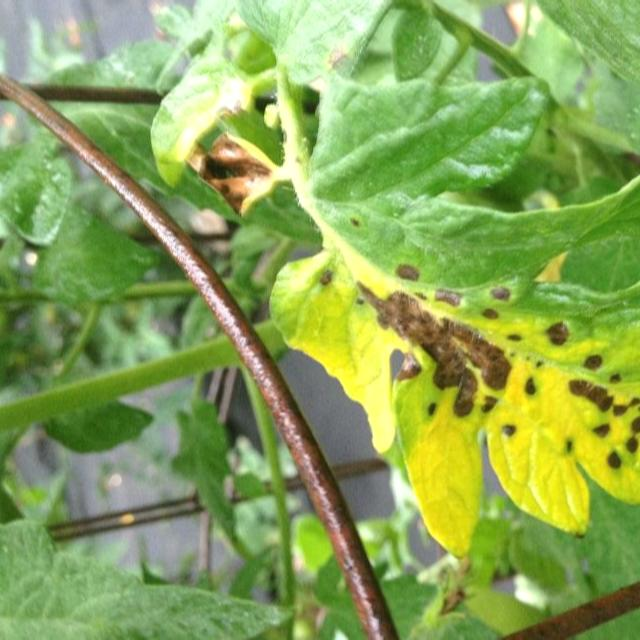Tomato leaf bacterial spot: (253, 219, 640, 560)
